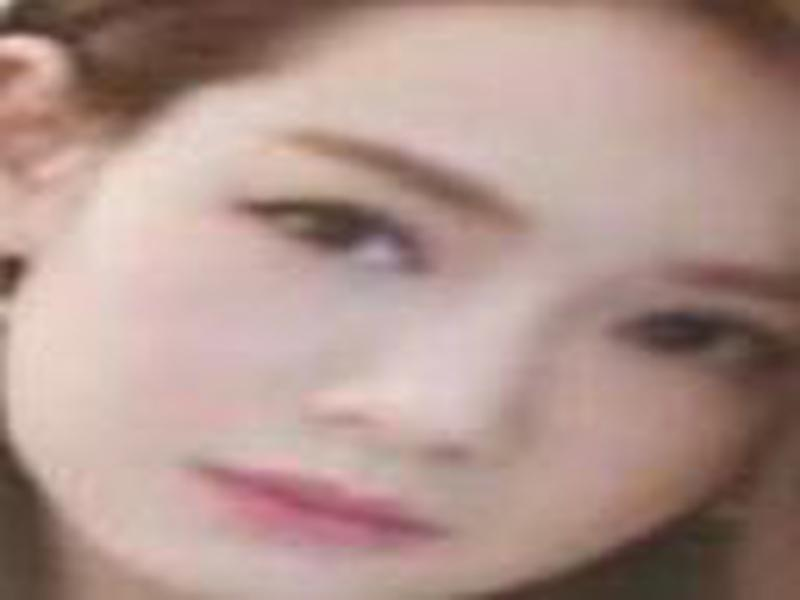without_mask: (23, 8, 789, 589)
